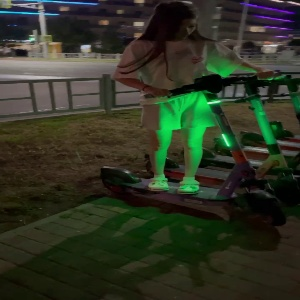human on a scooter: (97, 3, 287, 225)
